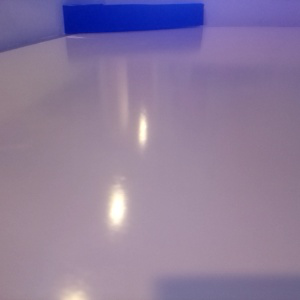zone: (62, 2, 205, 35)
